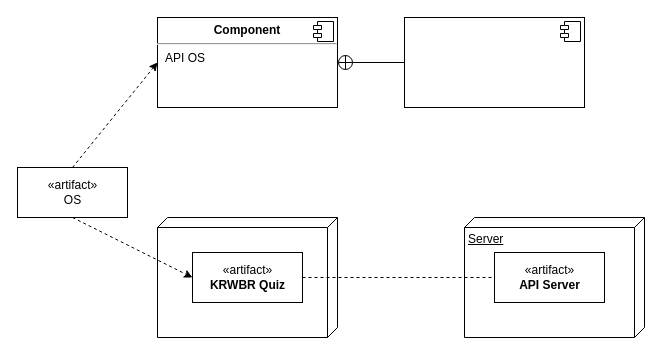
Some shapes in this 662 by 355 pixel diagram are drawn without their labels. Here are the shapes that lost their labels. From the top down, the box of each, then its label:
(404, 16, 584, 108): Component GUI
(156, 216, 338, 338): PC
